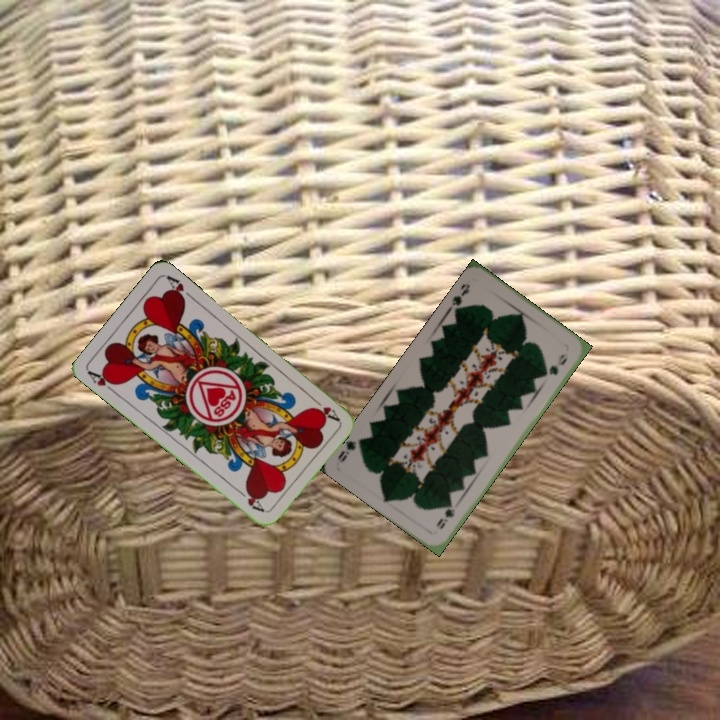G9: (448, 279, 473, 315), (432, 498, 458, 532)
HA: (84, 367, 120, 397), (307, 393, 341, 424)
